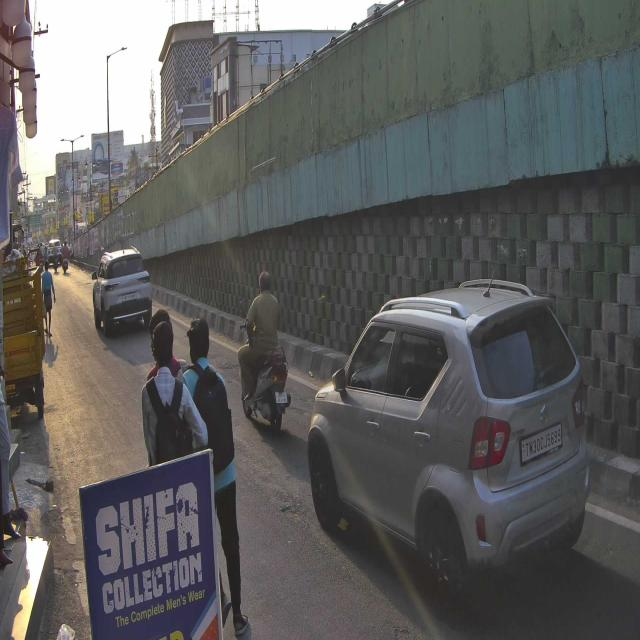single_rider: (237, 271, 292, 435)
